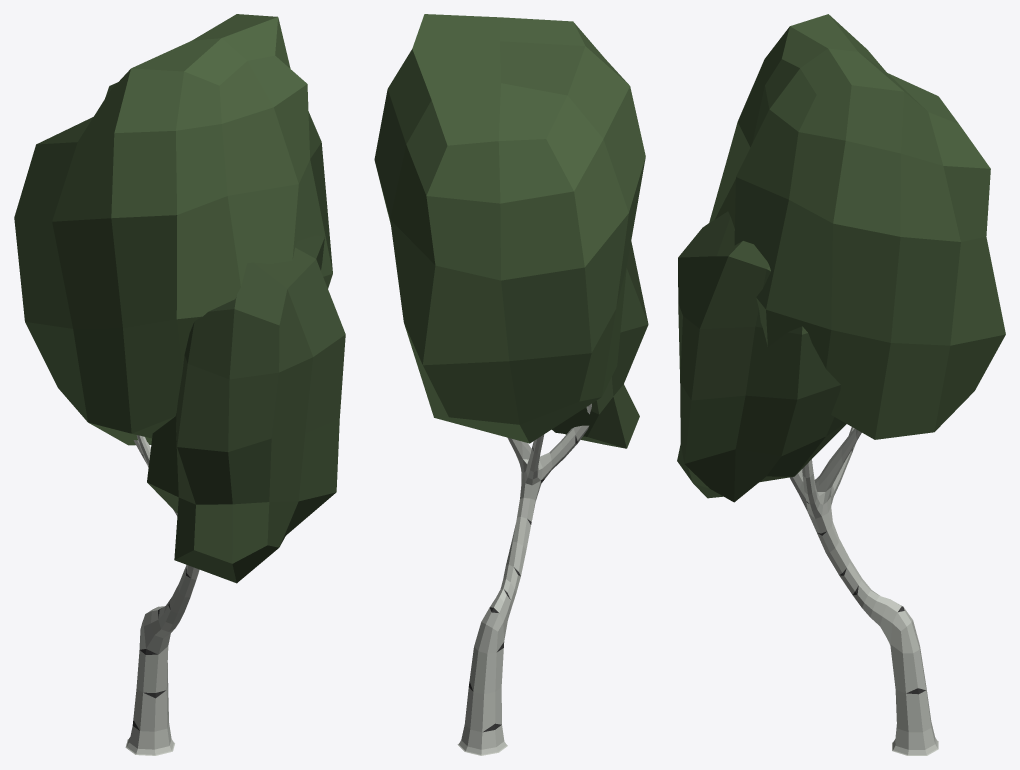
Rendered from birch2.glb.
The picture shows the model from 3 angles, left to right: view 1: azimuth 30°, elevation 25°; view 2: azimuth 150°, elevation 25°; view 3: azimuth 270°, elevation 25°; orthographic projection. The views are drawn at different scales.
Visible parts, largest first — view 1: BirchTree_2; view 2: BirchTree_2; view 3: BirchTree_2.
Boxes of the visible parts, x1=… form: BirchTree_2: x1=14, y1=14, x2=345, y2=755; BirchTree_2: x1=374, y1=14, x2=648, y2=755; BirchTree_2: x1=677, y1=14, x2=1005, y2=755.
Bounding box in the file's own units: 1.47 × 4.03 × 1.69.
